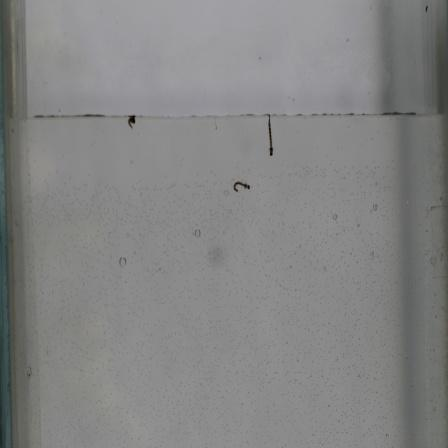Jentik-Nyamuk: (263, 113, 279, 161), (231, 178, 254, 199), (124, 113, 141, 132)
